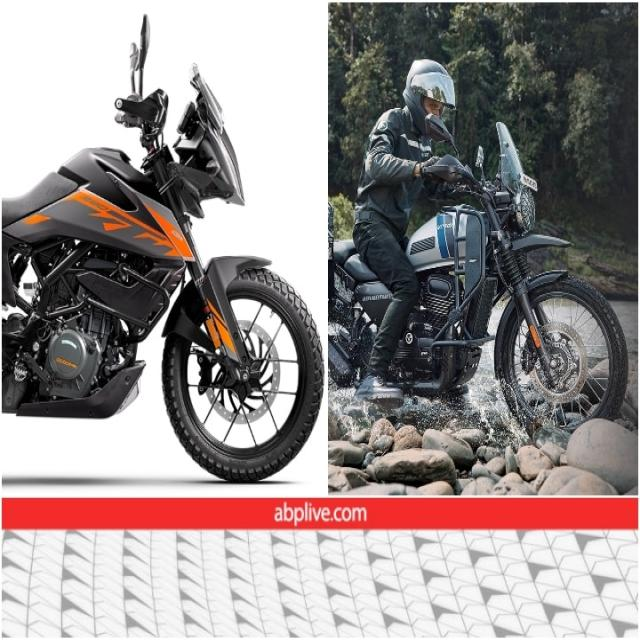motorcycle: (1, 15, 324, 482), (330, 60, 628, 432)
